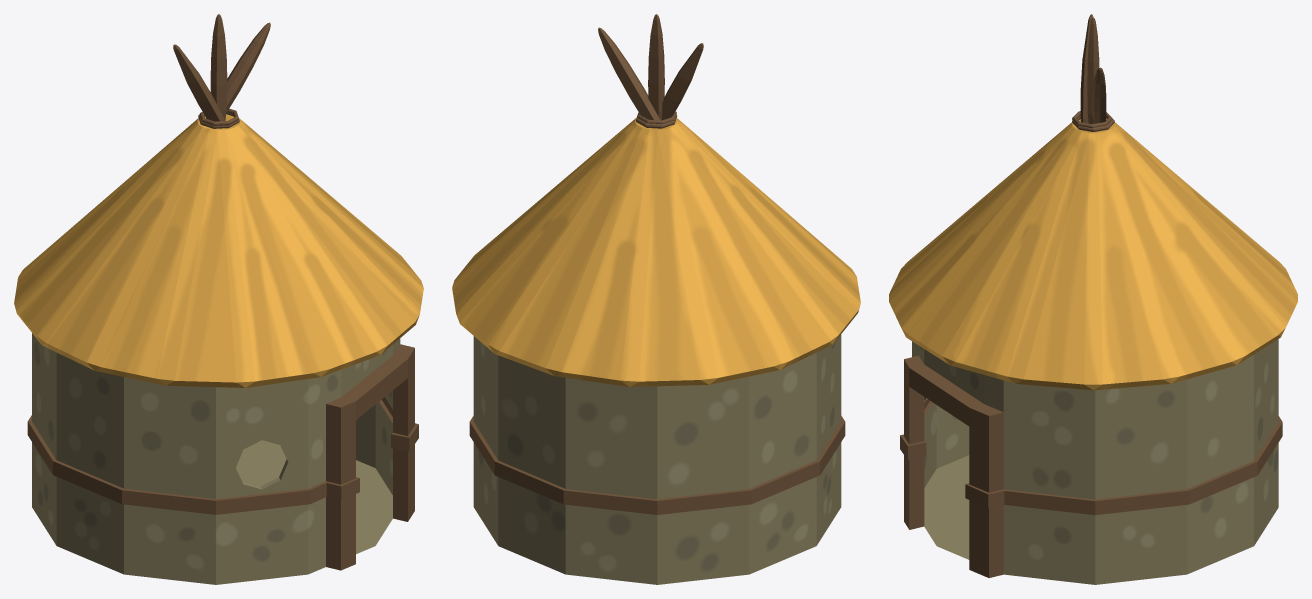
File: Choza 1.fbx
The picture shows the model from 3 angles, left to right: view 1: azimuth 30°, elevation 25°; view 2: azimuth 150°, elevation 25°; view 3: azimuth 270°, elevation 25°; orthographic projection.
Visible parts, largest first — view 1: TECHO, CASA, CASA.001, PALO TECHO.001; view 2: TECHO, CASA, CASA.001, PALO TECHO.001; view 3: TECHO, CASA, CASA.001, PALO TECHO.001.
Boxes of the visible parts, left/top/right/bottom form: TECHO: left=14, top=114, right=423, bottom=387; CASA: left=32, top=333, right=400, bottom=584; CASA.001: left=27, top=344, right=418, bottom=570; PALO TECHO.001: left=173, top=14, right=270, bottom=121; TECHO: left=452, top=118, right=860, bottom=386; CASA: left=473, top=334, right=841, bottom=584; CASA.001: left=469, top=416, right=845, bottom=514; PALO TECHO.001: left=598, top=14, right=703, bottom=120; TECHO: left=889, top=119, right=1297, bottom=390; CASA: left=912, top=339, right=1278, bottom=584; CASA.001: left=900, top=355, right=1282, bottom=577; PALO TECHO.001: left=1080, top=14, right=1106, bottom=124.
Size of the model in its own units: 335 by 443 by 335.
Materials: 3 (2 with a texture image).
